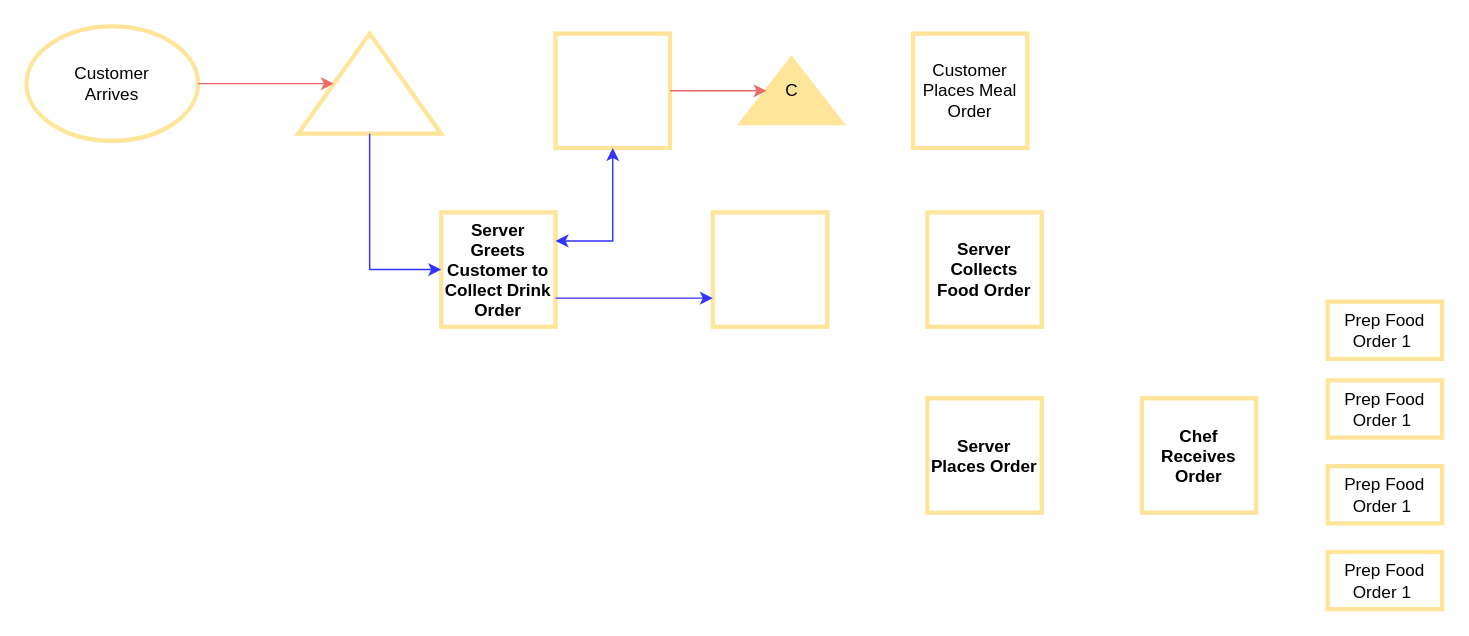
Image size: 1469x636. Some labels were removed from this diagram. The centre of each missing label's shape, as x and y in pixels:
"Customer Orders Drinks" belongs at (x=612, y=90).
"Customer Waits" belongs at (x=369, y=83).
"Server Gets Drinks" belongs at (x=769, y=268).
